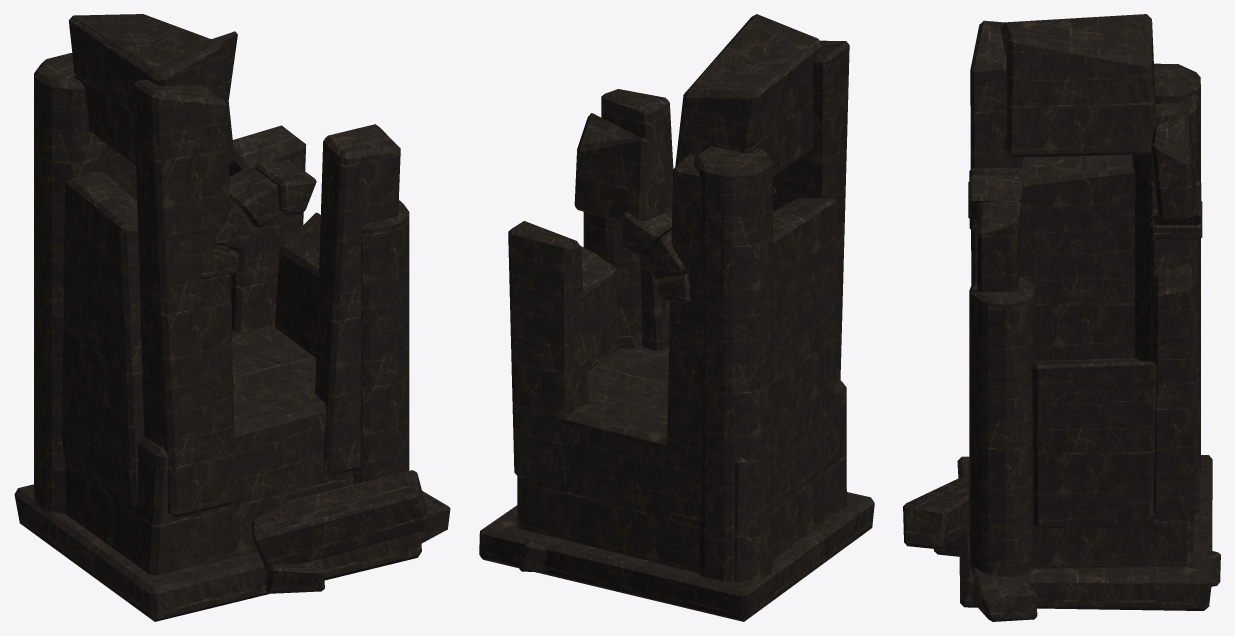
File: ruin_tower_silhouette_b.glb
3 views of the same model, side by side, from view 1: azimuth 30°, elevation 25°; view 2: azimuth 150°, elevation 25°; view 3: azimuth 270°, elevation 25° (orthographic). The views are drawn at different scales.
Visible parts, largest first — view 1: ruin_tower_silhouette_b; view 2: ruin_tower_silhouette_b; view 3: ruin_tower_silhouette_b.
Part boxes in pixels (left/top/right/bottom): ruin_tower_silhouette_b: left=14, top=14, right=450, bottom=621; ruin_tower_silhouette_b: left=479, top=14, right=874, bottom=621; ruin_tower_silhouette_b: left=903, top=14, right=1220, bottom=621.
Bounding box in the file's own units: 5.17 × 8.43 × 4.93.
1 material, 1 textured.
